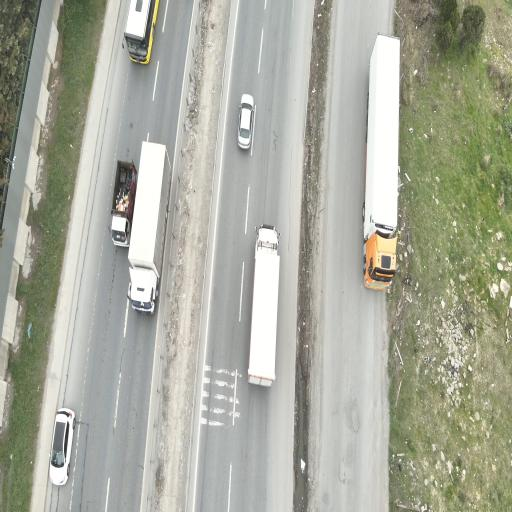bus: (125, 0, 158, 63)
car: (50, 409, 75, 484), (238, 94, 254, 148)
truck: (363, 34, 399, 289), (129, 142, 171, 313), (248, 225, 279, 386), (111, 161, 137, 246)
